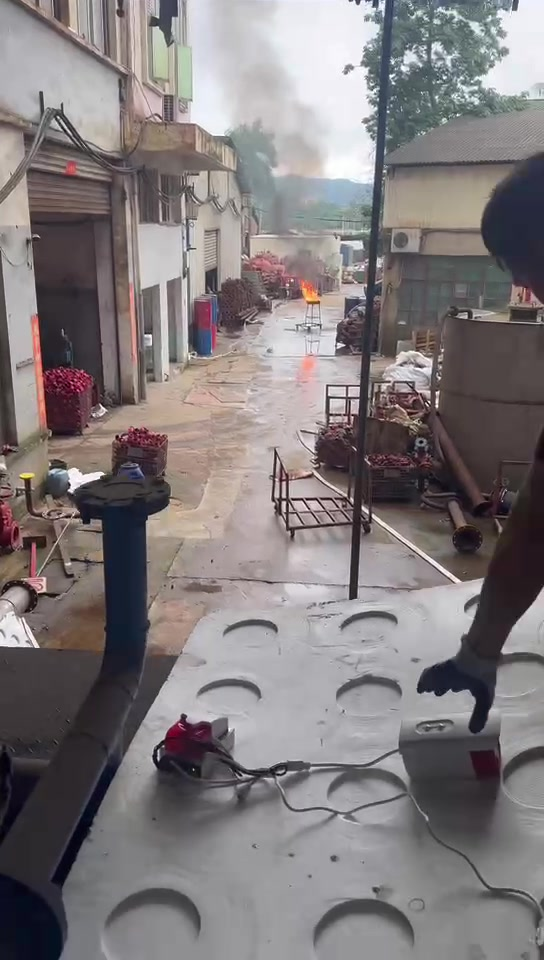fire: (300, 279, 319, 301)
